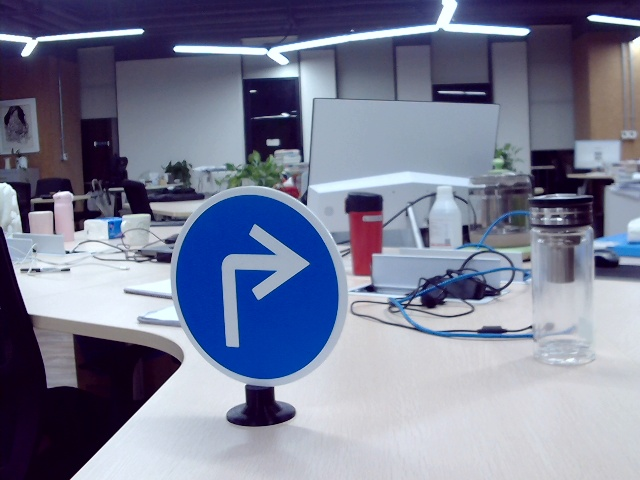turn_right: (208, 220, 312, 352)
